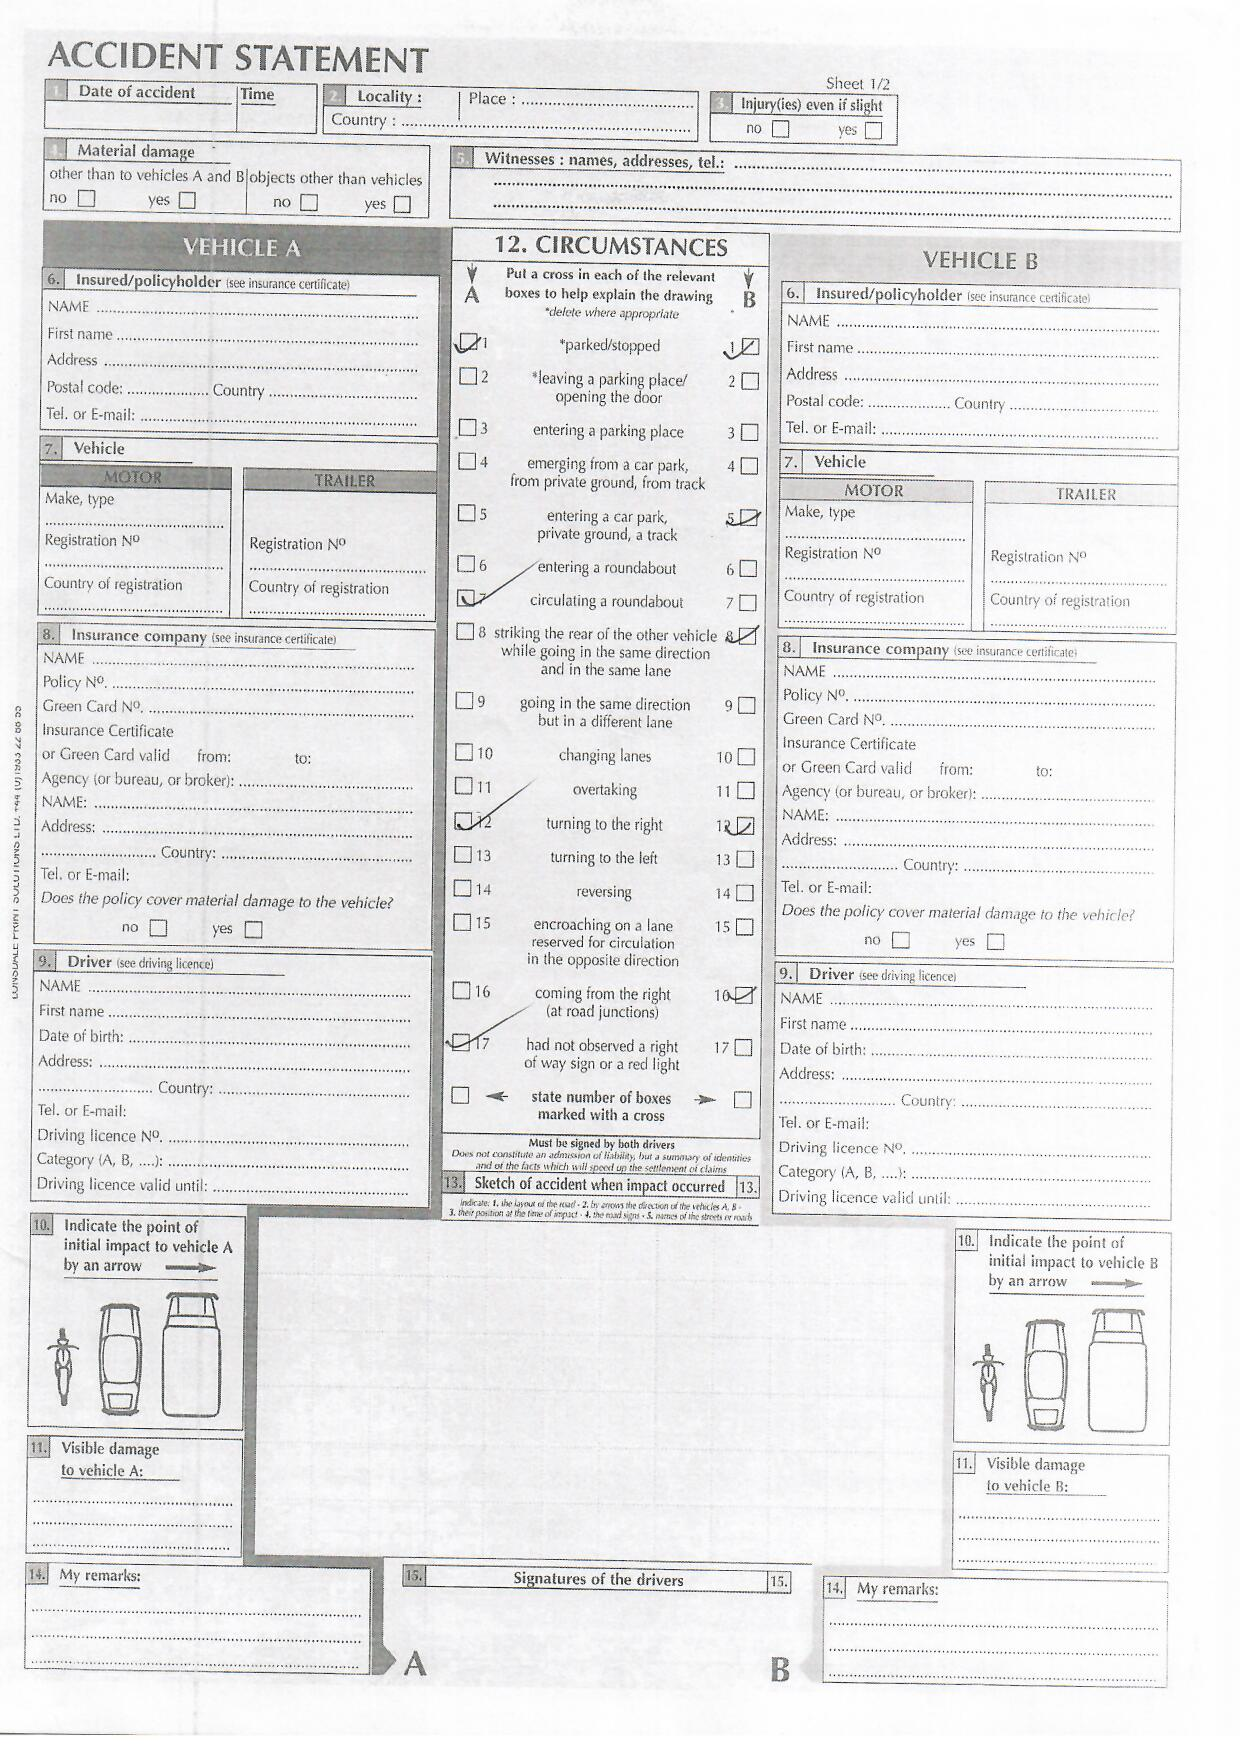a: (451, 807, 476, 835), (731, 815, 760, 839), (735, 505, 760, 532), (731, 983, 756, 1009), (454, 587, 479, 611), (735, 624, 760, 650), (448, 1030, 472, 1055), (455, 330, 482, 353), (738, 336, 762, 357)
